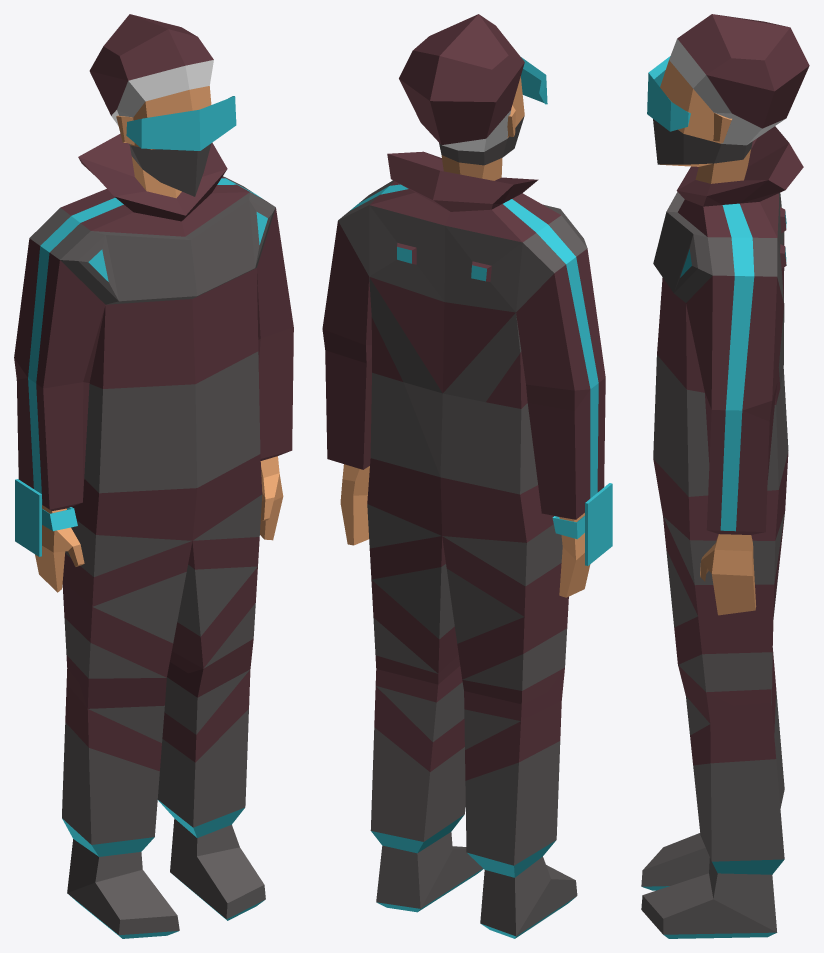
The model's file is man-scifi-goggles.fbx.
3 renders of one model, left to right at view 1: azimuth 30°, elevation 25°; view 2: azimuth 150°, elevation 25°; view 3: azimuth 270°, elevation 25°, orthographic.
Visible parts, largest first — view 1: man-scifi-goggles; view 2: man-scifi-goggles; view 3: man-scifi-goggles.
Part boxes in pixels (box(x1,y1,x2,y2)): man-scifi-goggles: box(14, 14, 293, 938); man-scifi-goggles: box(322, 14, 612, 938); man-scifi-goggles: box(641, 14, 809, 938).
Size of the model in its own units: 0.5703 by 1.87 by 0.3195.
